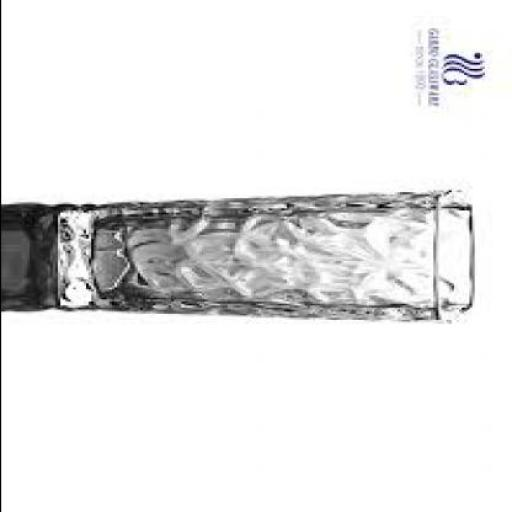glass: (3, 186, 476, 320)
